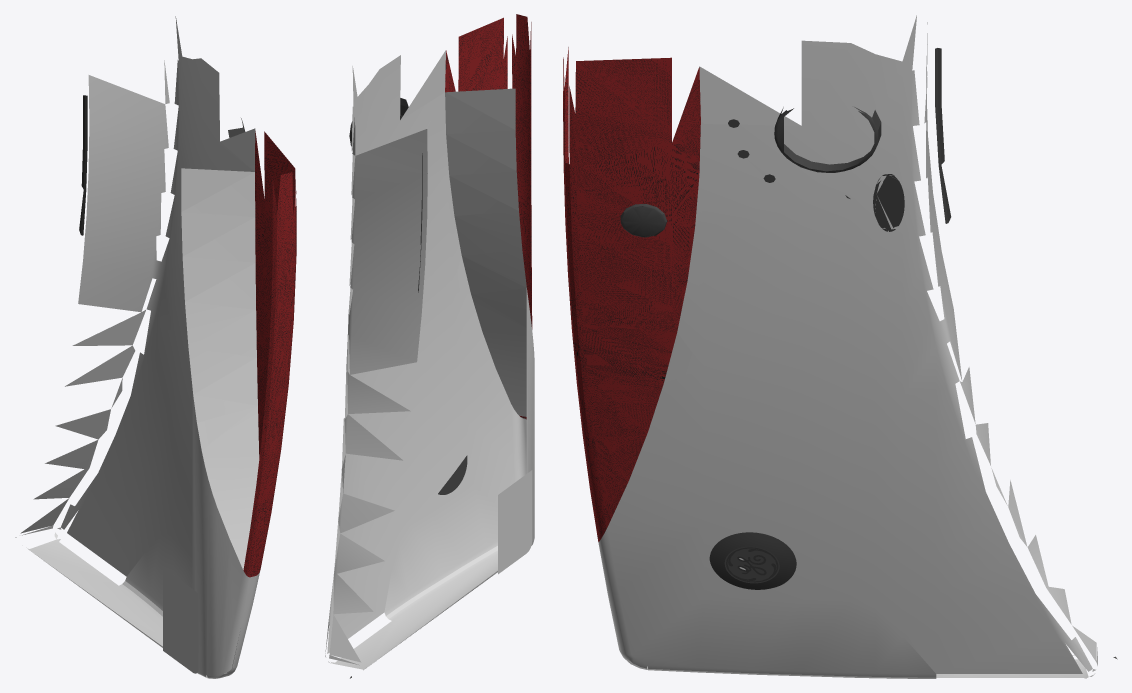
The model's file is washer_front_top_left.dae.
3 renders of one model, left to right at view 1: azimuth 30°, elevation 25°; view 2: azimuth 150°, elevation 25°; view 3: azimuth 270°, elevation 25°, orthographic. The views are drawn at different scales.
Parts seen in each view (by area): view 1: SketchUp (×8); view 2: SketchUp (×8); view 3: SketchUp (×8).
Boxes of the visible parts, x1,y1,x2,y2 form: SketchUp (×8): (20,16,296,678); SketchUp (×8): (325,14,534,670); SketchUp (×8): (563,15,1092,678).
Bounding box in the file's own units: 16.27 × 3.08 × 11.8.
